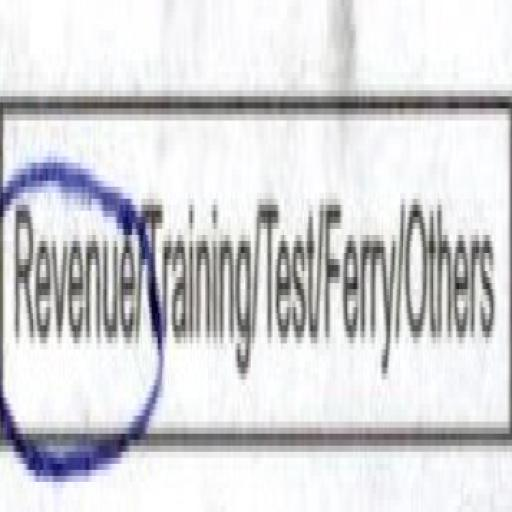check: (0, 42, 139, 506)
